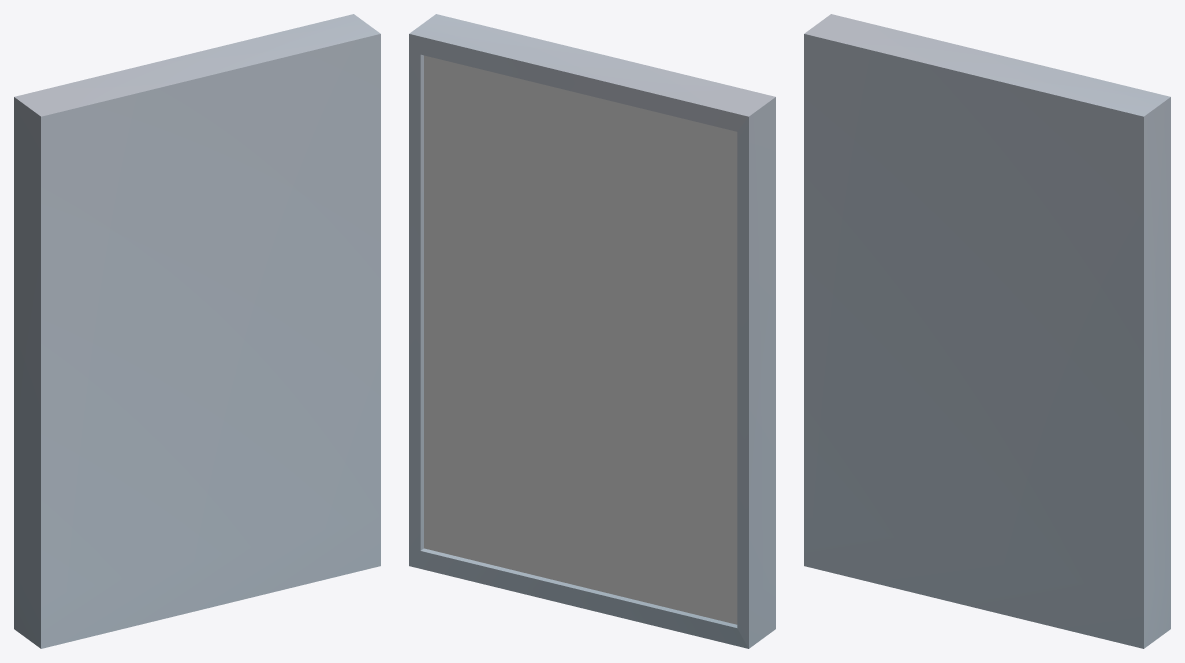
Rendered from end_drzwi.fbx.
3 renders of one model, left to right at view 1: azimuth 30°, elevation 25°; view 2: azimuth 150°, elevation 25°; view 3: azimuth 330°, elevation 25°, orthographic.
Visible parts, largest first — view 1: Cube; view 2: szklo, Cube; view 3: Cube.
Boxes of the visible parts, x1,y1,x2,y2 form: Cube: [14, 14, 380, 648]; szklo: [424, 55, 737, 624]; Cube: [409, 14, 775, 648]; Cube: [804, 14, 1170, 648].
Size of the model in its own units: 292 by 436 by 40.25.
1 material, 1 textured.
